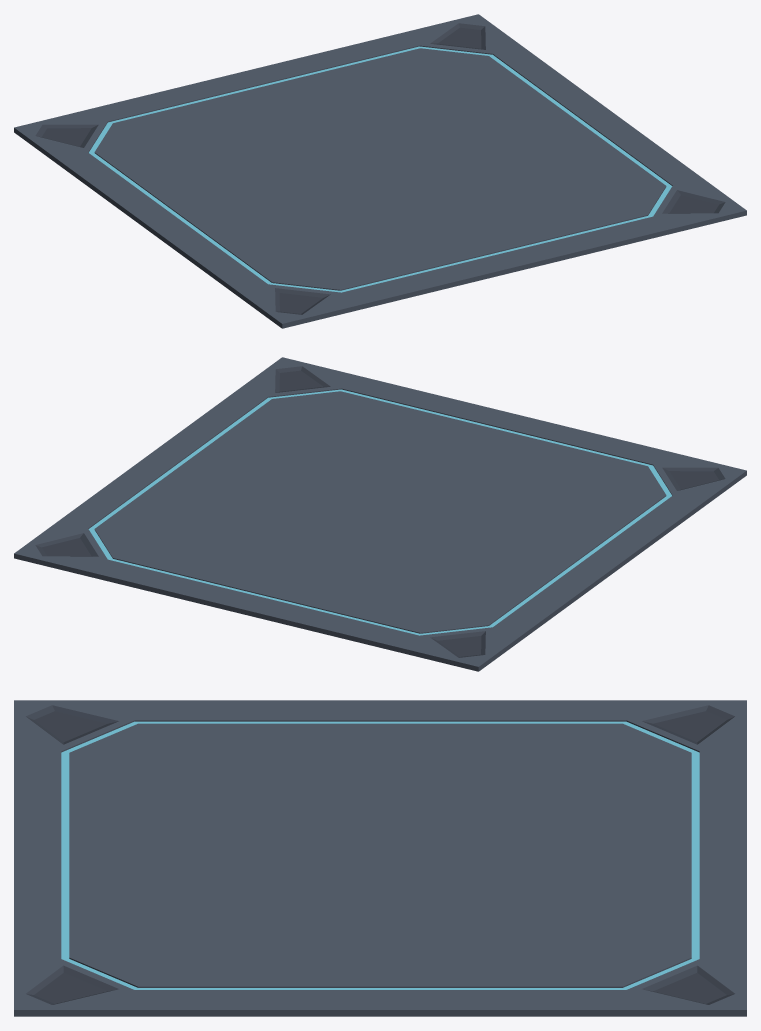
File: Sci-fi_floor_tile.fbx
3 renders of one model, top to bottom at view 1: azimuth 30°, elevation 25°; view 2: azimuth 150°, elevation 25°; view 3: azimuth 270°, elevation 25°, orthographic. The views are drawn at different scales.
Visible parts, largest first — view 1: Sci-fi_floor_tile; view 2: Sci-fi_floor_tile; view 3: Sci-fi_floor_tile.
Part boxes in pixels (x1=…): Sci-fi_floor_tile: x1=14, y1=14, x2=746, y2=328; Sci-fi_floor_tile: x1=14, y1=357, x2=746, y2=671; Sci-fi_floor_tile: x1=14, y1=700, x2=746, y2=1016.
Bounding box in the file's own units: 2 × 0.02 × 2.
